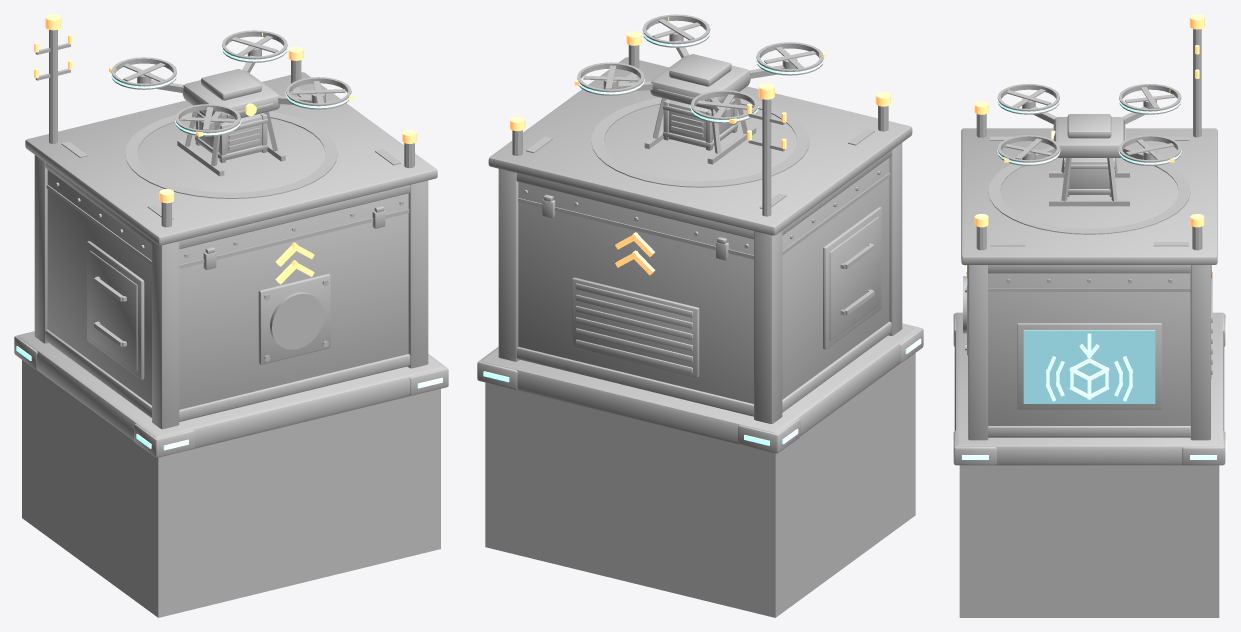
Rendered from SM_DroneOutputStation.fbx.
3 renders of one model, left to right at view 1: azimuth 30°, elevation 25°; view 2: azimuth 150°, elevation 25°; view 3: azimuth 270°, elevation 25°, orthographic. The views are drawn at different scales.
Parts seen in each view (by area): view 1: SM_DroneOutputStation; view 2: SM_DroneOutputStation; view 3: SM_DroneOutputStation.
Boxes of the visible parts, <box> form: SM_DroneOutputStation: <box>14,14,448,617</box>; SM_DroneOutputStation: <box>477,14,923,617</box>; SM_DroneOutputStation: <box>952,14,1226,617</box>.
Size of what is drawn, in the model's own units: 1.93 by 3.14 by 1.63.
